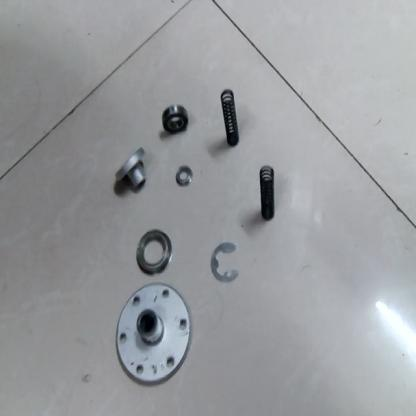FOD: (113, 280, 193, 389), (133, 226, 174, 278), (113, 143, 150, 200), (254, 162, 280, 226), (217, 86, 242, 152), (208, 240, 244, 284), (160, 102, 190, 138), (173, 162, 194, 191)
